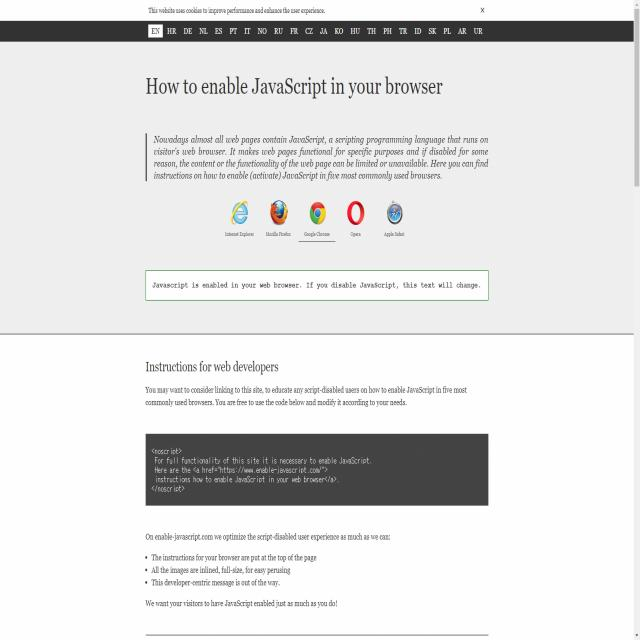menu-bar: (143, 22, 487, 44)
